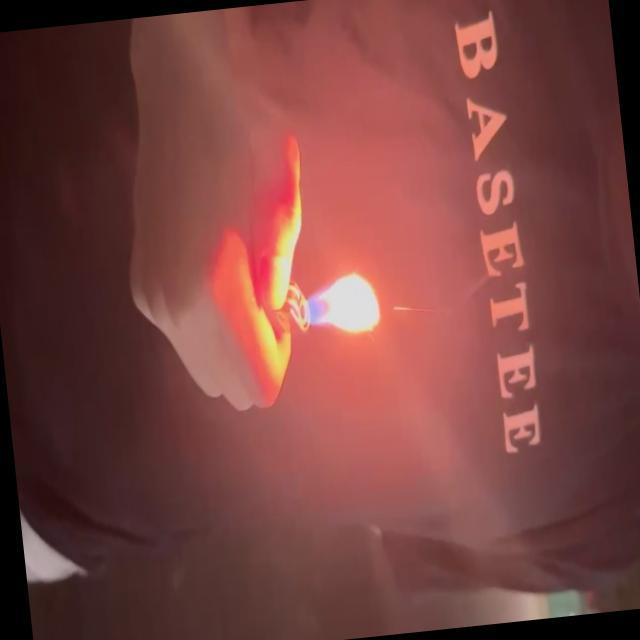Fire: (294, 269, 385, 345)
